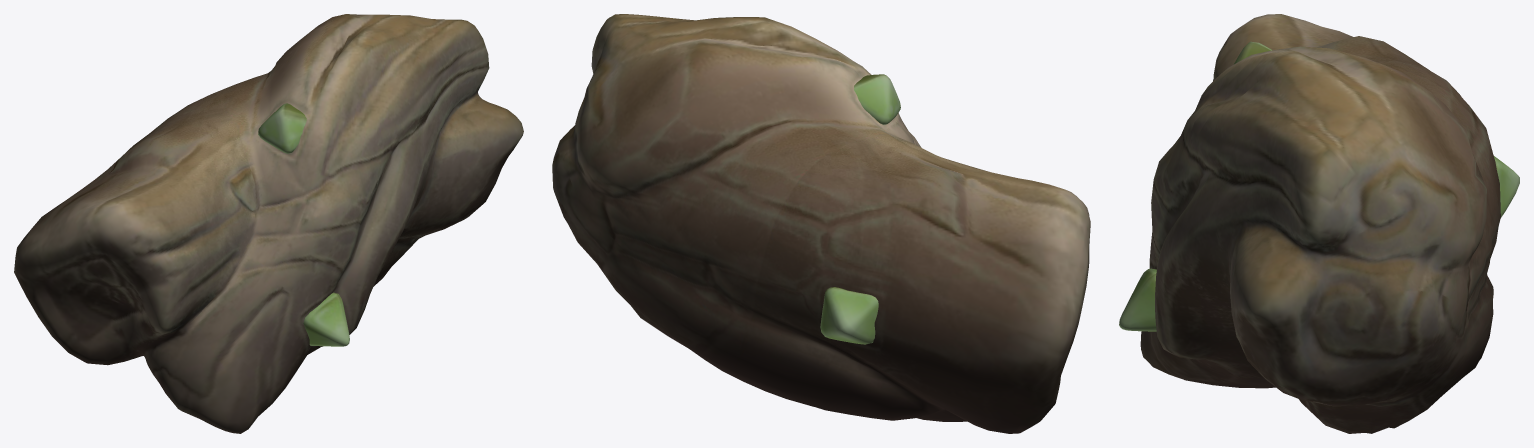
Rendered from ore_deposit_green_dream.glb.
3 views of the same model, side by side, from view 1: azimuth 30°, elevation 25°; view 2: azimuth 150°, elevation 25°; view 3: azimuth 270°, elevation 25° (orthographic). The views are drawn at different scales.
Parts seen in each view (by area): view 1: ore_deposit_green; view 2: ore_deposit_green; view 3: ore_deposit_green.
Part boxes in pixels (x1,y1,x2,y2): ore_deposit_green: (14, 14, 523, 433); ore_deposit_green: (552, 14, 1090, 433); ore_deposit_green: (1119, 14, 1519, 433).
Size of the model in its own units: 0.3745 by 0.2506 by 0.2091.
1 material, 1 textured.
